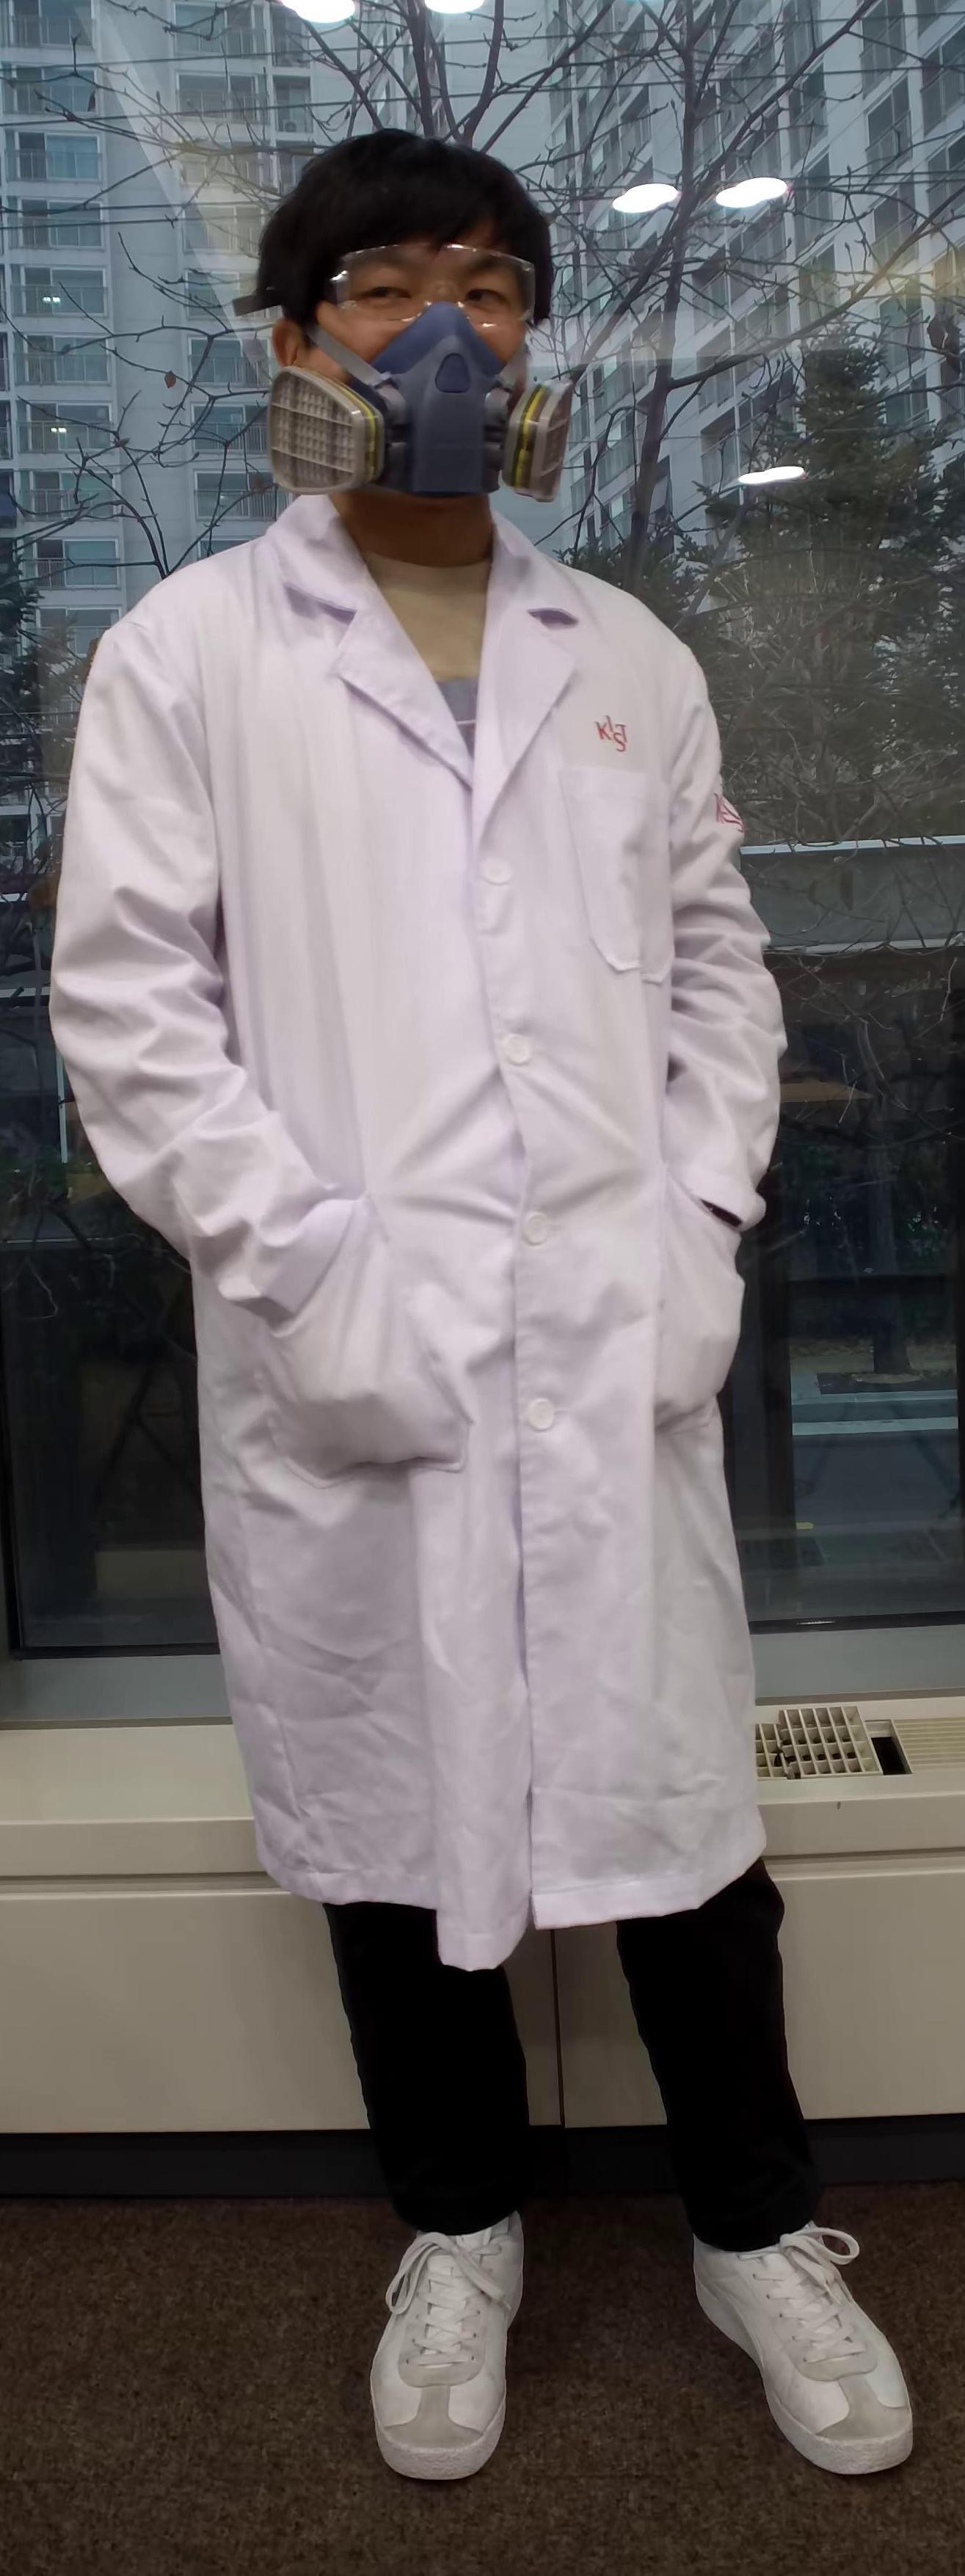lab_coat: (0, 567, 963, 1909)
